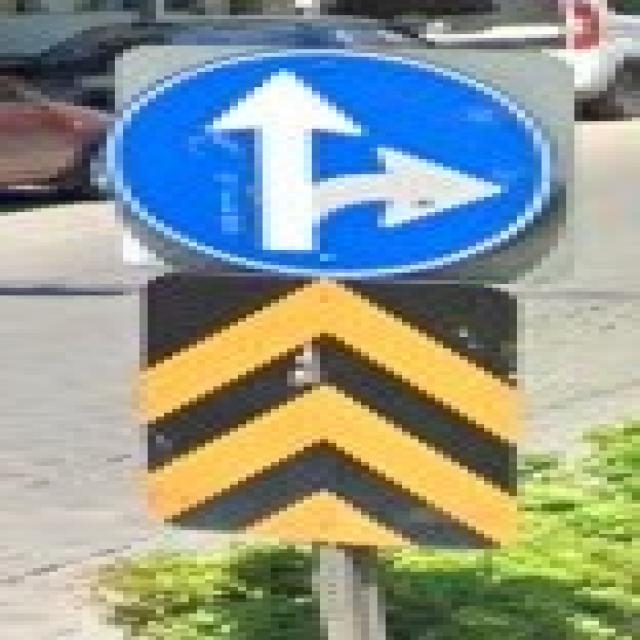Straight or Right: (103, 52, 555, 276)
